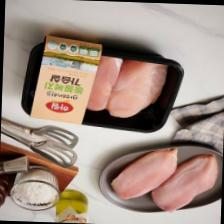chicken: (150, 151, 218, 213), (108, 144, 177, 200), (106, 57, 166, 119)
